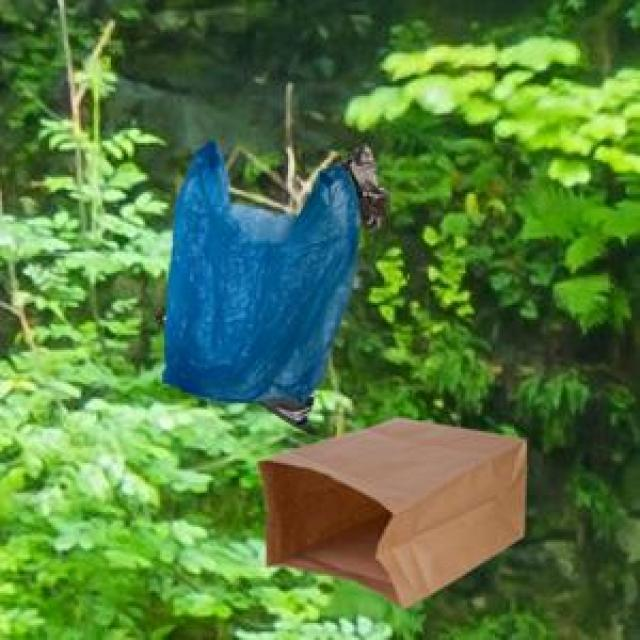miscellaneous trash: (254, 141, 386, 431)
paper: (254, 414, 523, 604)
